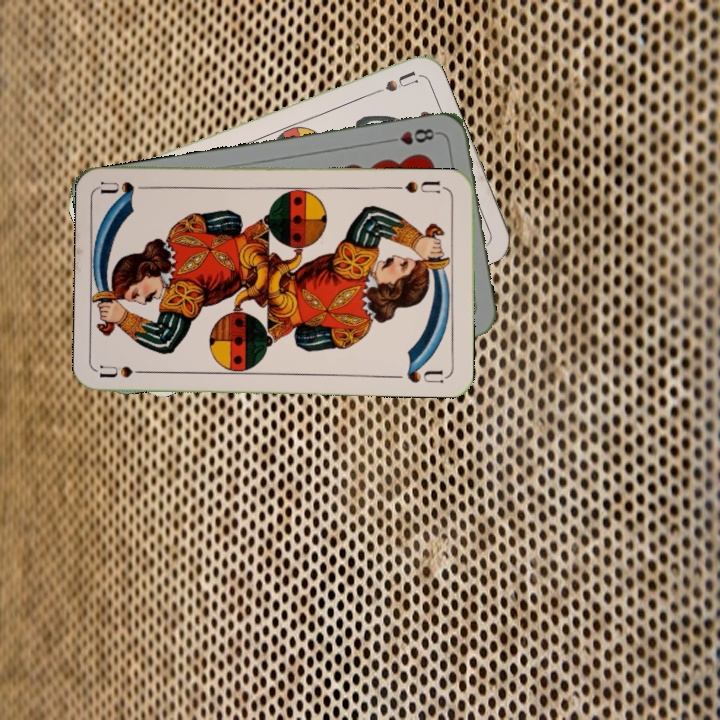H8: (382, 124, 441, 148)
SU: (361, 66, 419, 100), (391, 176, 450, 196), (98, 362, 157, 380)
